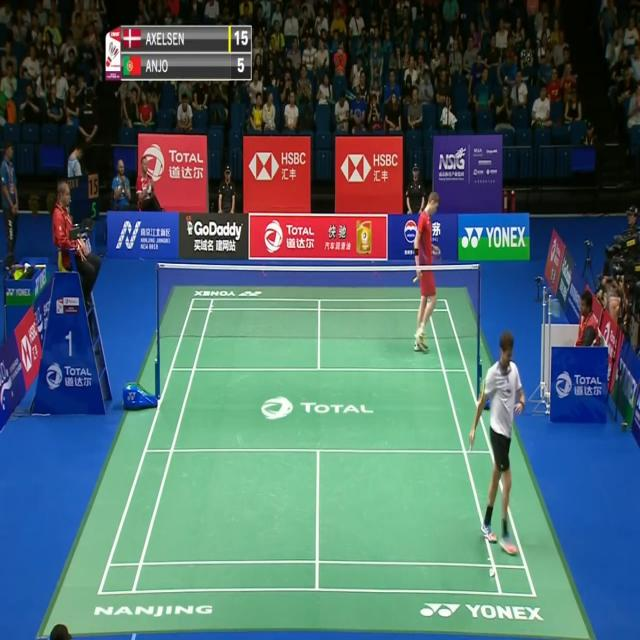Player1: (466, 328, 526, 564)
Player2: (408, 185, 442, 364)
